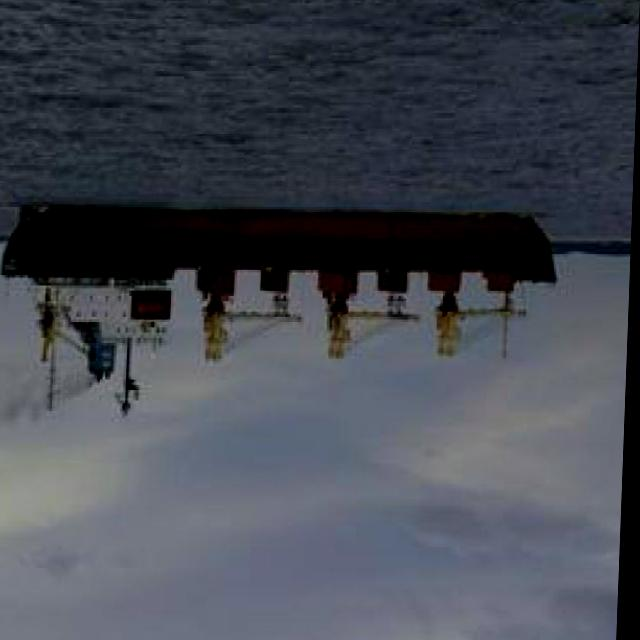ship2: (0, 205, 560, 414)
